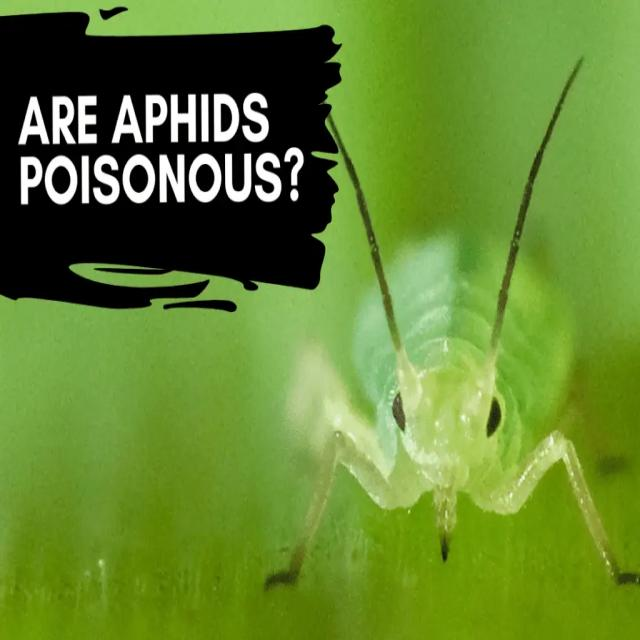Aphid-Grown-: (288, 114, 610, 573)
